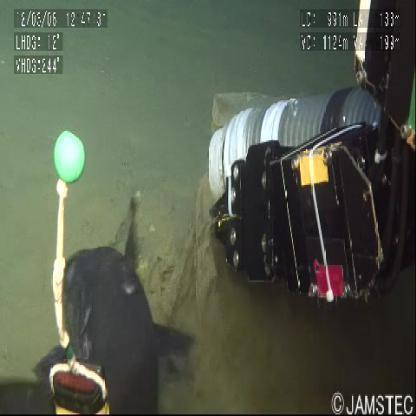Rác: (138, 190, 221, 338)
